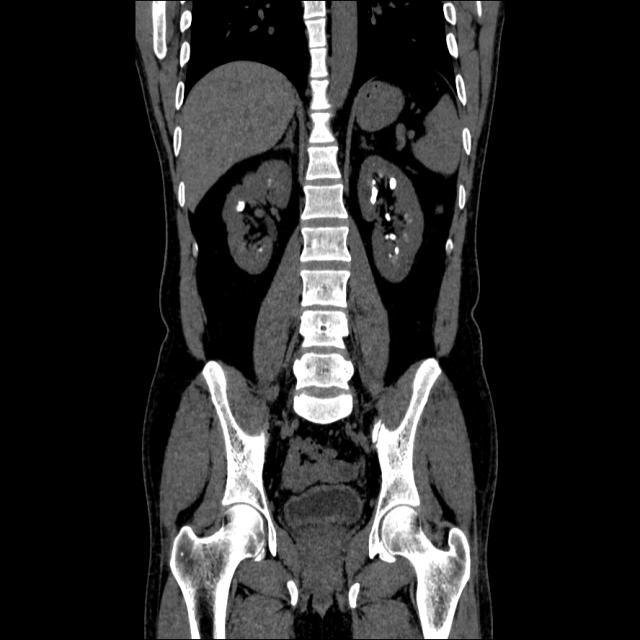kidneystone: (386, 213, 397, 239), (370, 179, 375, 203), (236, 201, 245, 211), (389, 178, 396, 190)
